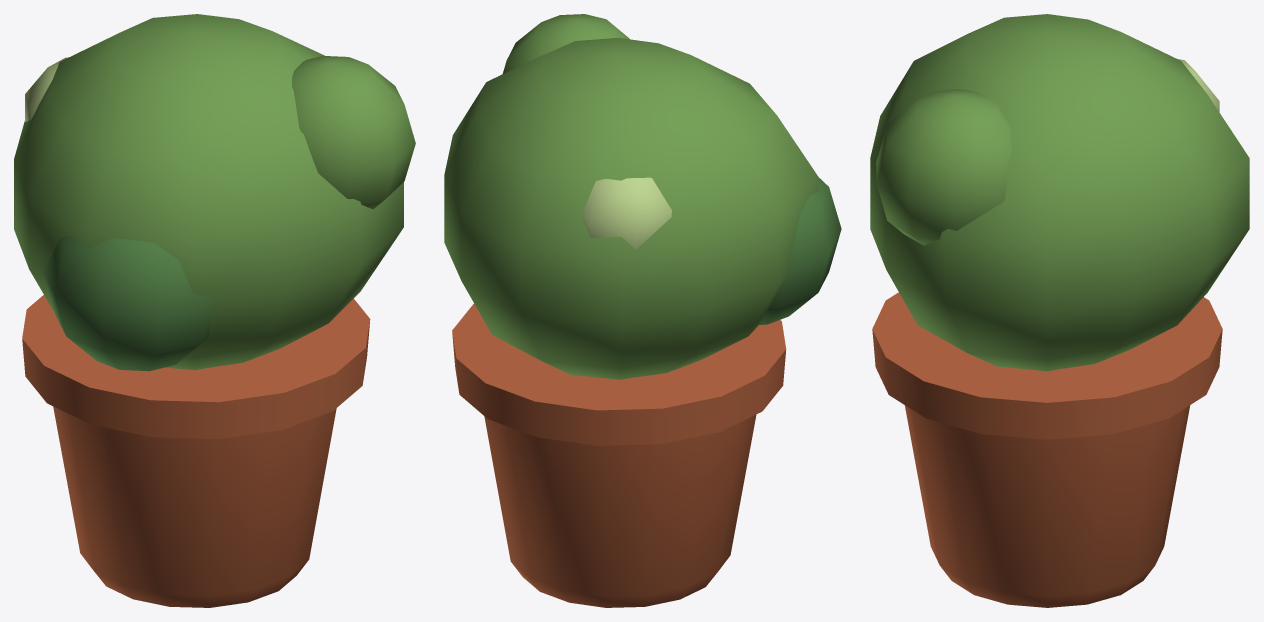
The model's file is planter_pot.glb.
The picture shows the model from 3 angles, left to right: view 1: azimuth 30°, elevation 25°; view 2: azimuth 150°, elevation 25°; view 3: azimuth 270°, elevation 25°; orthographic projection. The views are drawn at different scales.
Parts seen in each view (by area): view 1: planter_pot; view 2: planter_pot; view 3: planter_pot.
Part boxes in pixels (x1,y1,x2,y2): planter_pot: [14, 14, 415, 607]; planter_pot: [444, 14, 841, 607]; planter_pot: [870, 14, 1249, 607].
Size of the model in its own units: 0.6277 by 0.9 by 0.585.
